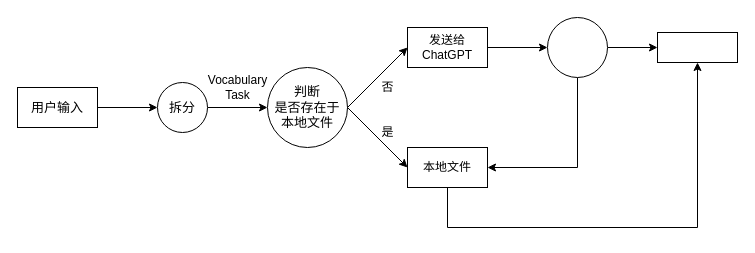
The diagram is 755 pixels wide and 253 high, and some of its shapes have lost their labels. Here are the shapes that lost their labels. From the top down, the centre of each, then its label:
point 577,47: 保存回复
point 697,47: 输出
